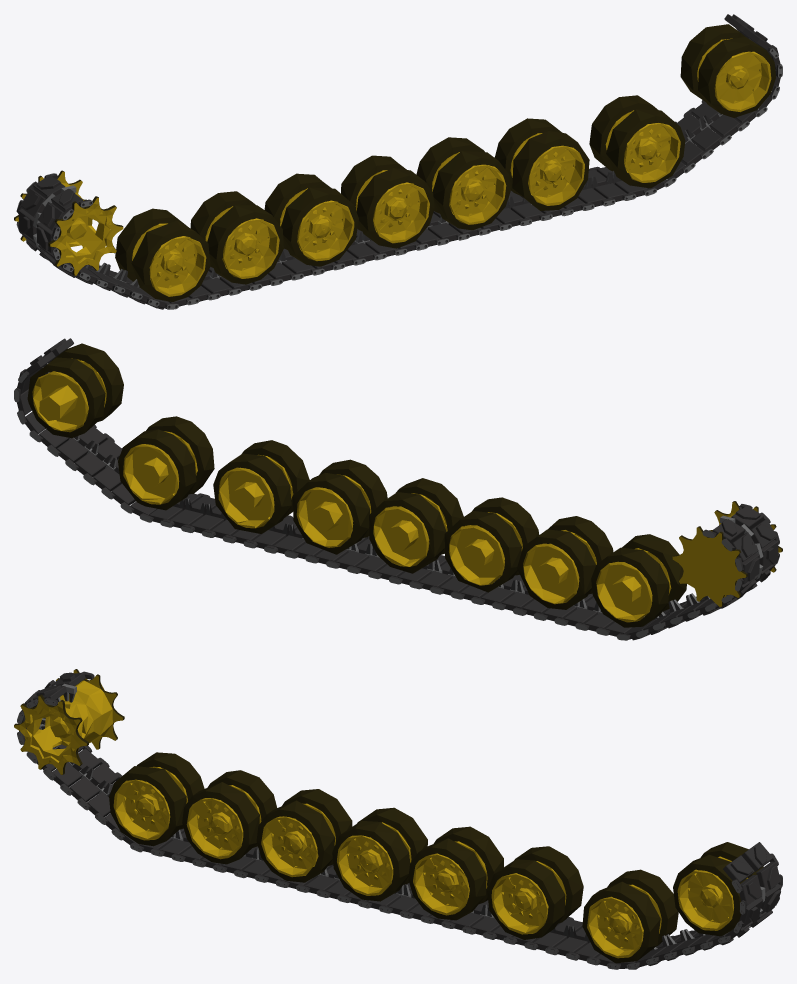
File: wheels_right.obj
3 views of the same model, one above another, from view 1: azimuth 30°, elevation 25°; view 2: azimuth 150°, elevation 25°; view 3: azimuth 330°, elevation 25° (orthographic).
Parts seen in each view (by area): view 1: s_arml1_rubber, Rectangl10_rubber, rowheel_13_rubber, rowheel_l8_rubber, rowheel_10_rubber, rowheel_l9_rubber, rowheel_11_rubber, rowheel_12_rubber, rowheel_14_axis1, rowheel_13_axis, rowheel_l9_axis, rowheel_l8_axis (+10 smaller); view 2: Rectangl10_rubber, s_arml1_rubber, rowheel_13_rubber, rowheel_l8_rubber, rowheel_l9_rubber, rowheel_10_rubber, rowheel_14_axis1, rowheel_11_rubber, rowheel_12_rubber, rowheel_l8_axis, Rectangl10_axis, rowheel_10_axis (+11 smaller); view 3: rowheel_14_axis1, rowheel_l8_rubber, Rectangl10_rubber, rowheel_l9_rubber, rowheel_10_rubber, rowheel_11_rubber, rowheel_12_rubber, rowheel_13_rubber, rowheel_l9_axis, Rectangl10_axis, rowheel_13_axis, rowheel_11_axis (+11 smaller).
Part boxes in pixels (x1,y1,x2,y2): s_arml1_rubber: (680, 24, 775, 117); Rectangl10_rubber: (589, 95, 685, 188); rowheel_13_rubber: (115, 208, 210, 301); rowheel_l8_rubber: (494, 118, 589, 210); rowheel_10_rubber: (341, 155, 434, 248); rowheel_l9_rubber: (416, 137, 510, 230); rowheel_11_rubber: (264, 173, 358, 266); rowheel_12_rubber: (190, 191, 283, 284); rowheel_14_axis1: (15, 171, 123, 275); rowheel_13_axis: (132, 223, 206, 296); rowheel_l9_axis: (432, 152, 506, 224); rowheel_l8_axis: (510, 133, 584, 205); Rectangl10_rubber: (118, 416, 214, 510); s_arml1_rubber: (27, 343, 123, 438); rowheel_13_rubber: (591, 534, 686, 627); rowheel_l8_rubber: (213, 440, 309, 533); rowheel_l9_rubber: (293, 459, 387, 554); rowheel_10_rubber: (369, 478, 463, 573); rowheel_14_axis1: (672, 502, 781, 606); rowheel_11_rubber: (444, 497, 539, 592); rowheel_12_rubber: (517, 516, 613, 609); rowheel_l8_axis: (218, 454, 293, 528); Rectangl10_axis: (123, 431, 197, 504); rowheel_10_axis: (373, 493, 447, 566); rowheel_14_axis1: (14, 670, 123, 774); rowheel_l8_rubber: (487, 846, 583, 939); Rectangl10_rubber: (582, 869, 678, 963); rowheel_l9_rubber: (408, 826, 503, 920); rowheel_10_rubber: (332, 807, 427, 901); rowheel_11_rubber: (256, 789, 352, 882); rowheel_12_rubber: (182, 770, 276, 864); rowheel_13_rubber: (109, 752, 204, 846); rowheel_l9_axis: (413, 841, 487, 915); Rectangl10_axis: (587, 884, 661, 958); rowheel_13_axis: (113, 766, 187, 840); rowheel_11_axis: (261, 803, 335, 877).
Size of the model in its own units: 17.9 by 3.17 by 1.73.
